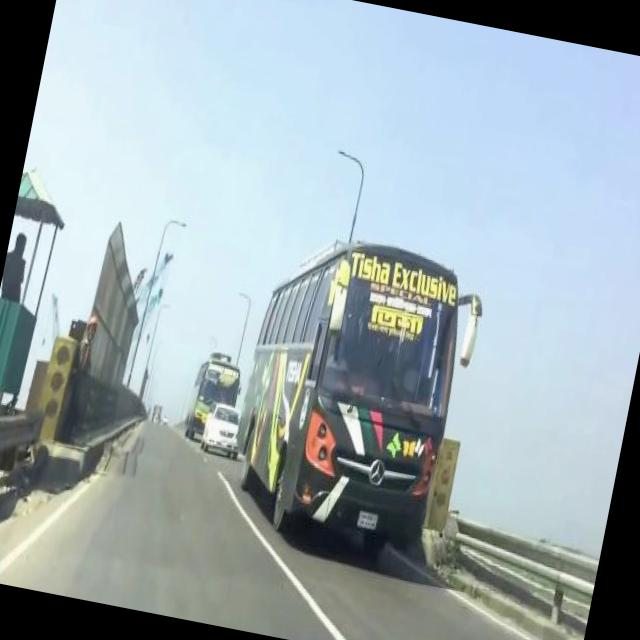bus: (220, 220, 480, 558), (180, 354, 242, 446)
car: (198, 399, 248, 460)
